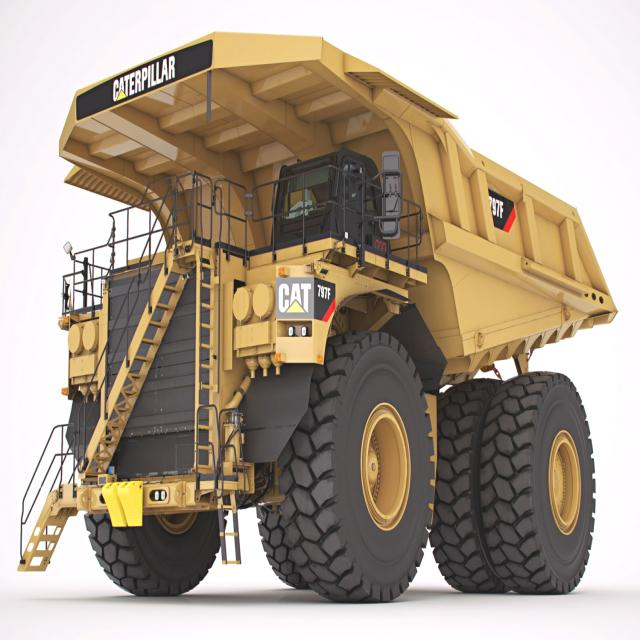dump_truck: (36, 19, 610, 606)
